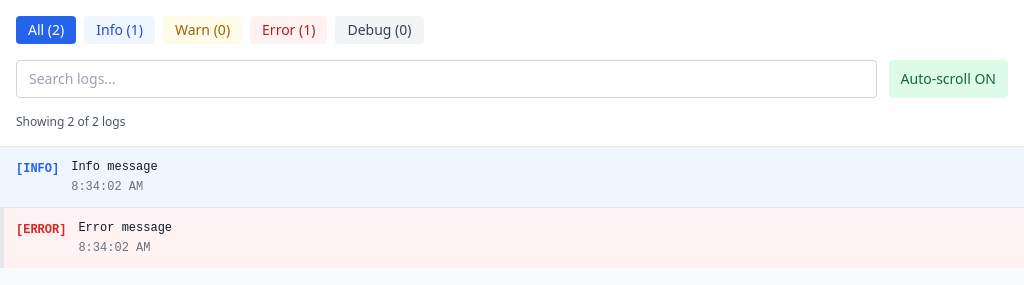
Test: RealTimeLogs › should filter logs by level
The image size is (1024, 285).
Check: the text "Info message" is shown, box [71,160,158,174]
Check: the text "Error message" is shown, box [78,221,172,235]
// Click error filter
Click the button "Error (1)".
click(289, 30)  # box [250,16,328,44]
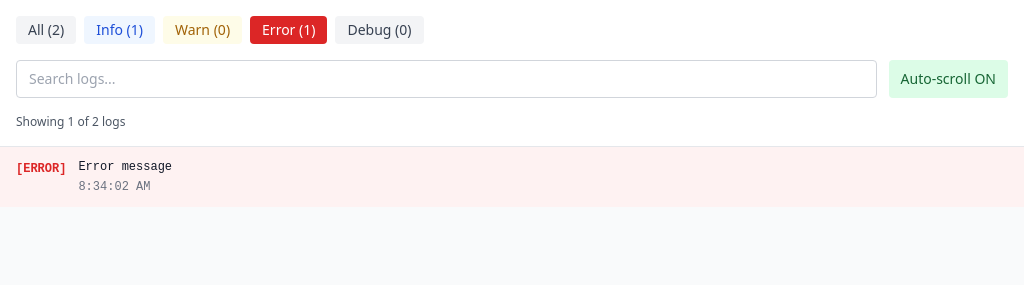
Check: the text "Info message" is gone
Check: the text "Error message" is shown, box [78,160,172,174]
